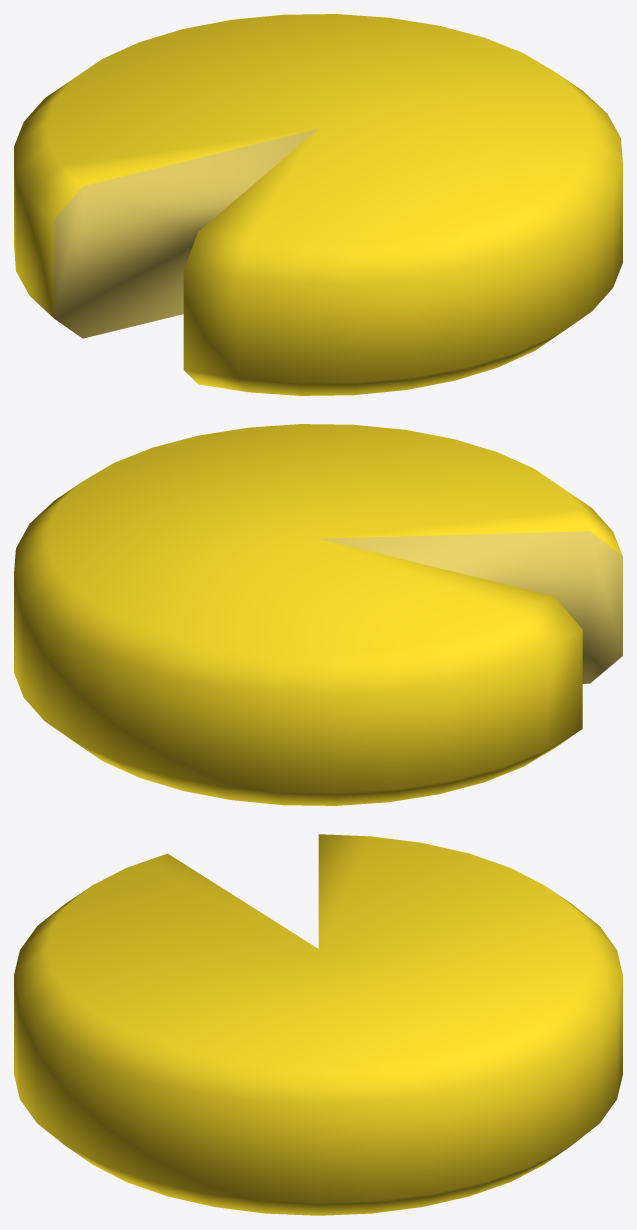
File: cutCheesewheel.dae
3 views of the same model, one above another, from view 1: azimuth 30°, elevation 25°; view 2: azimuth 150°, elevation 25°; view 3: azimuth 270°, elevation 25° (orthographic).
Visible parts, largest first — view 1: Cylinder; view 2: Cylinder; view 3: Cylinder.
Part boxes in pixels (x1=…): Cylinder: x1=14, y1=14, x2=622, y2=395; Cylinder: x1=14, y1=424, x2=622, y2=805; Cylinder: x1=14, y1=834, x2=622, y2=1215.
Bounding box in the file's own units: 2 × 2 × 0.5514.
